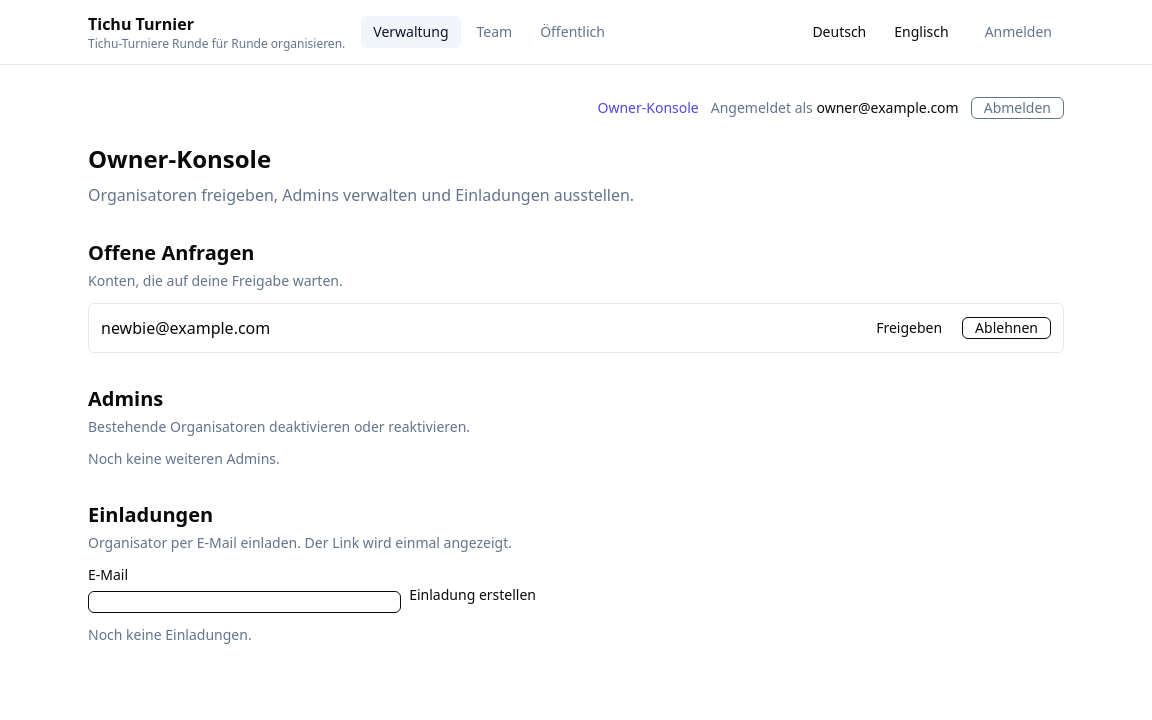
it: owner console › approves a pending request and moves the account into the admin list
This screenshot has width=1152, height=720.
Expected: the link "Owner-Konsole" is shown, x1=598 y1=98 x2=699 y2=118
Expected: the text "newbie@example.com" is shown, x1=101 y1=316 x2=270 y2=340
Click the button "Freigeben".
click(909, 328)  # box x1=864 y1=318 x2=954 y2=338
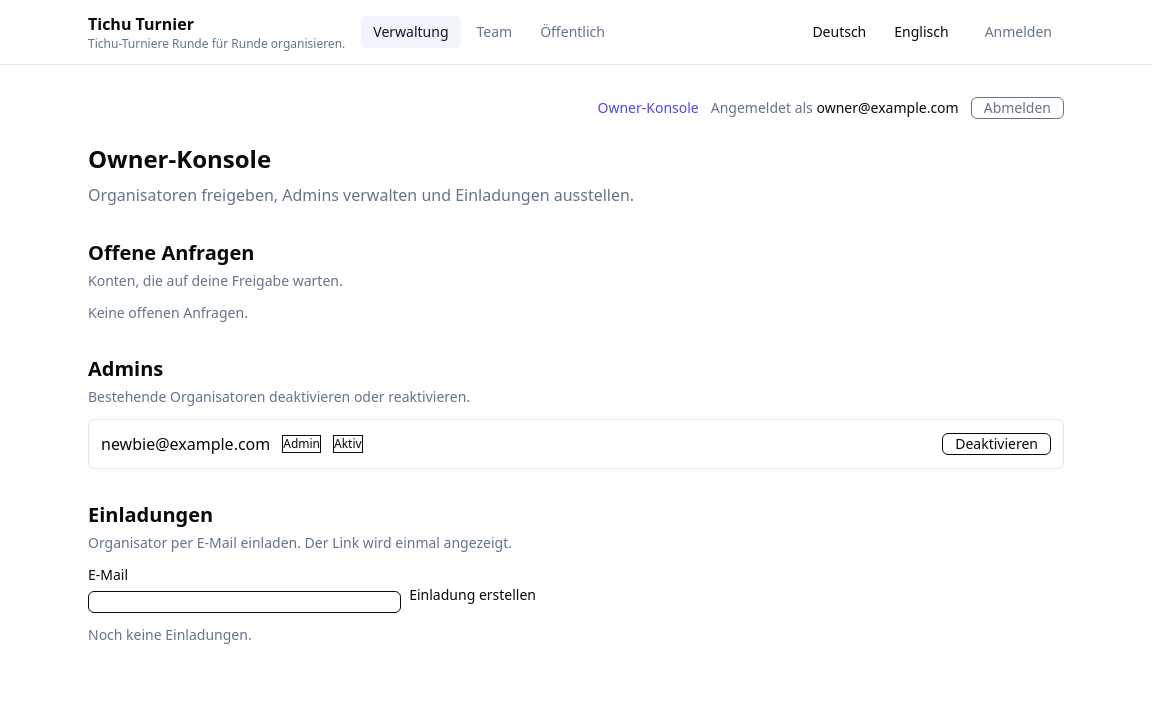
Expected: the text "Keine offenen Anfragen." is shown, x1=88 y1=303 x2=248 y2=322
Expected: the text "Aktiv" is shown, x1=333 y1=435 x2=363 y2=453
Expected: the button "Deaktivieren" is shown, x1=942 y1=433 x2=1051 y2=455
